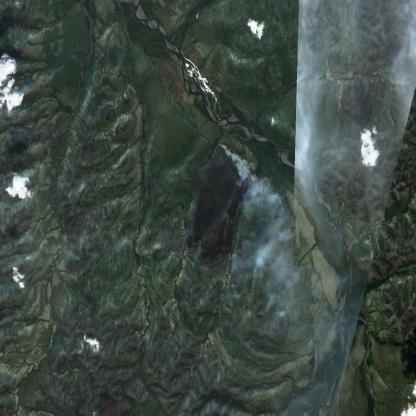fire: (185, 133, 262, 282)
